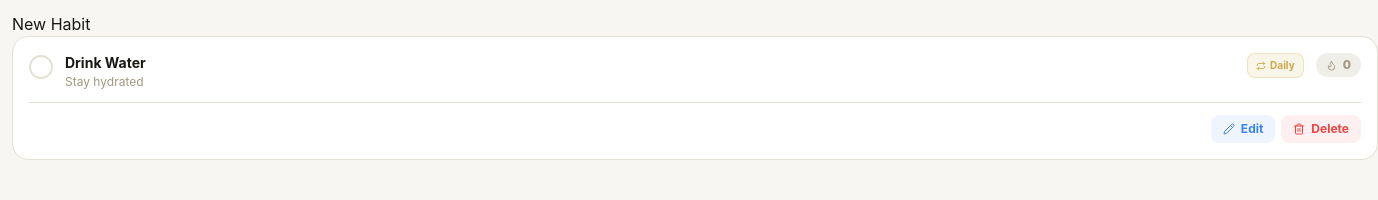
Test case: habit form › toggles completion and updates the streak display
Expected: the element with test id "habit-streak-drink-water" reads "0", [1343,57,1351,72]
Toggle complete
Click the button with test id "habit-complete-drink-water": (41,67) [29,55,53,79]
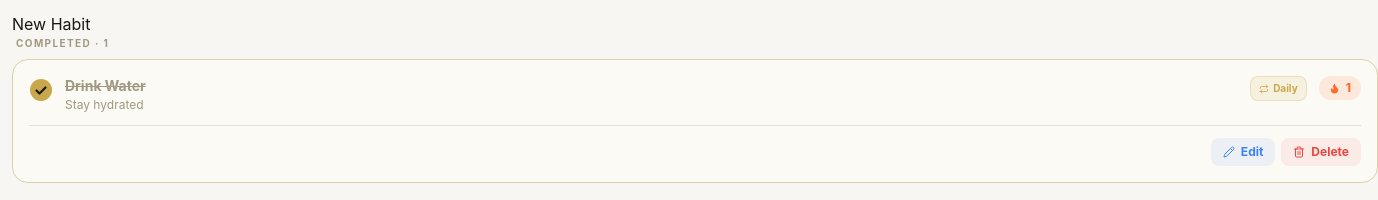
Expected: the element with test id "habit-streak-drink-water" reads "1", [1346,80,1351,95]
Toggle again — uncomplete
Click the button with test id "habit-complete-drink-water": (41,90) [29,78,53,102]
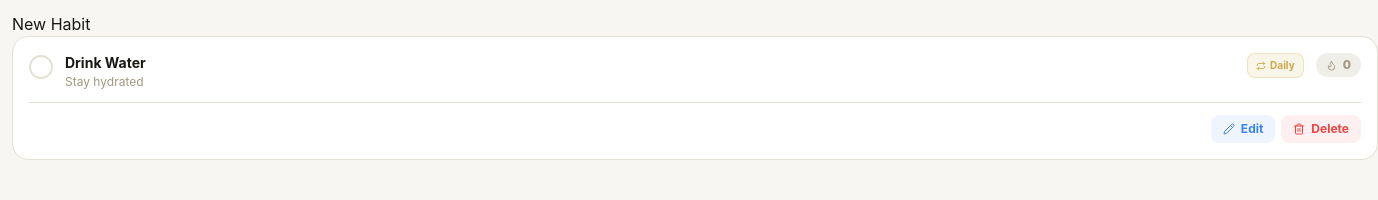
Expected: the element with test id "habit-streak-drink-water" reads "0", [1343,57,1351,72]
